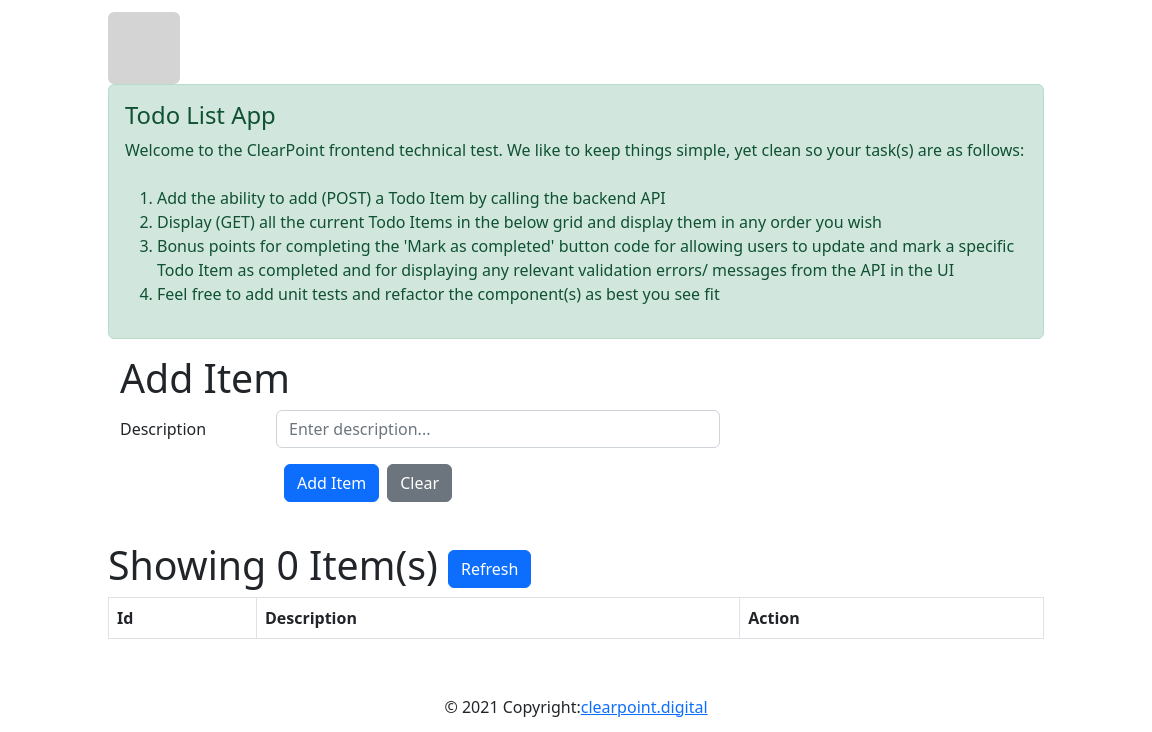
Test: adding  should be able to surface errors
Step 1. Click the button "Add Item" → (332, 483), box [284,464,379,502]
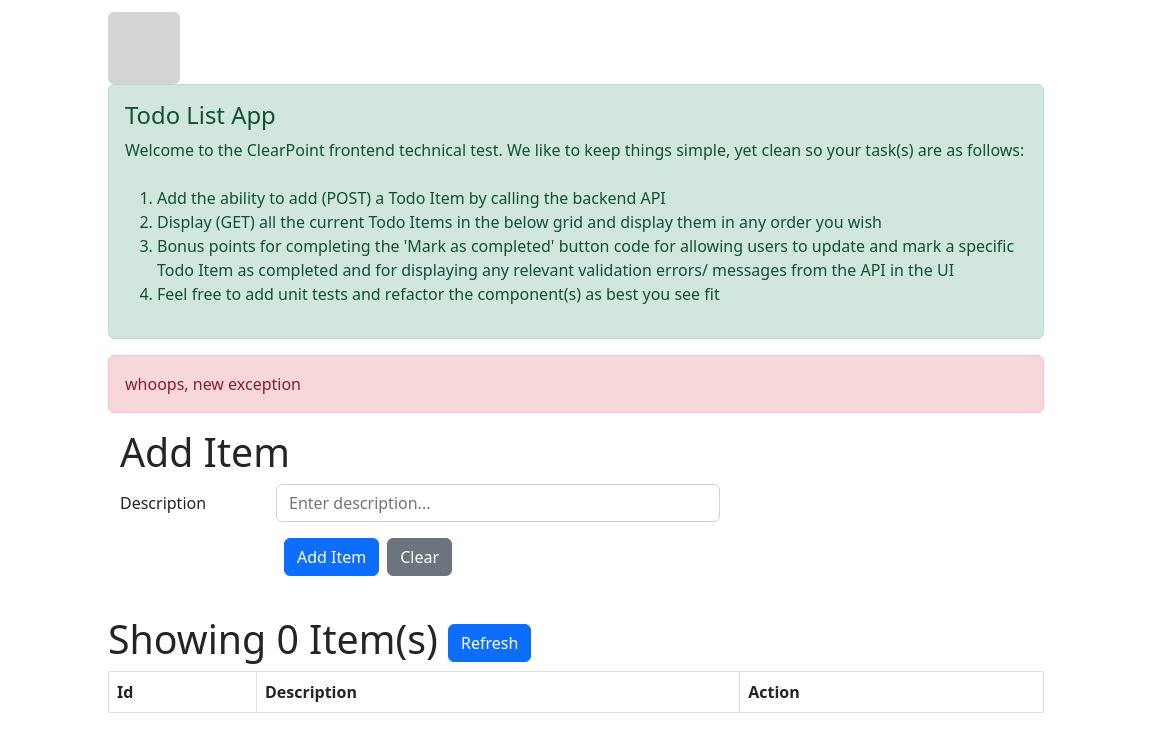
Expected: the text "whoops, new exception" is shown, [108,355,1044,413]
